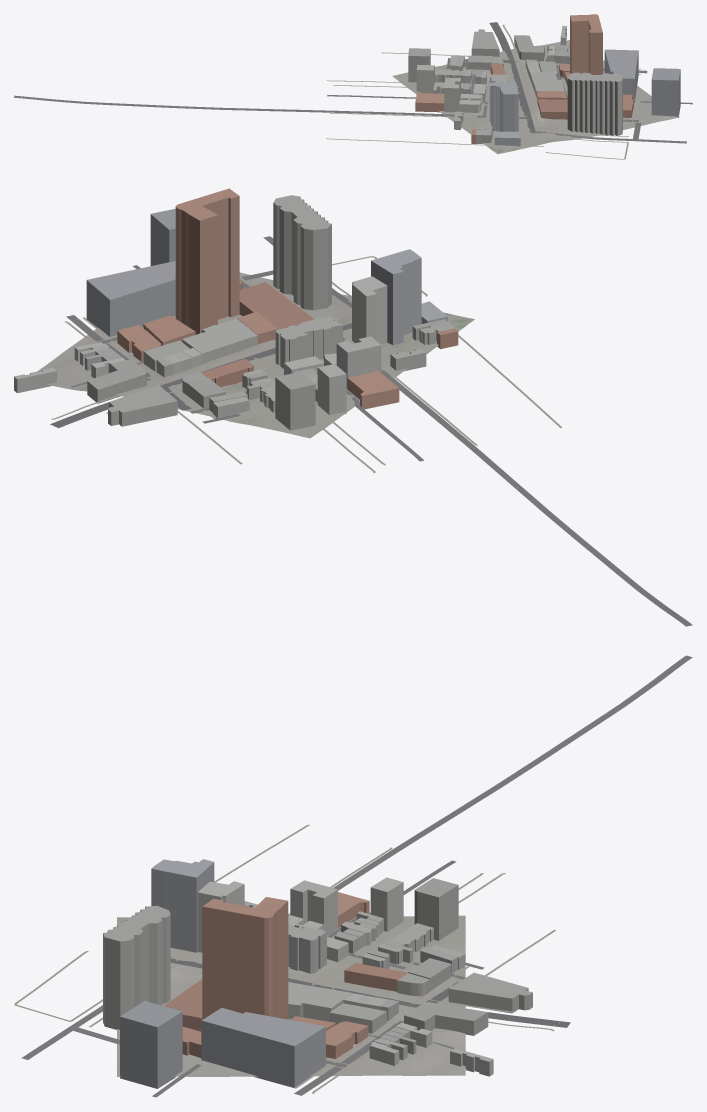
Rendered from tile_-6_-2.glb.
3 views of the same model, one above another, from view 1: azimuth 30°, elevation 25°; view 2: azimuth 150°, elevation 25°; view 3: azimuth 270°, elevation 25° (orthographic). The views are drawn at different scales.
Parts seen in each view (by area): view 1: buildings, terrain, roads; view 2: buildings, terrain, roads; view 3: buildings, terrain, roads.
Boxes of the visible parts, left/top/right/bottom form: buildings: left=408, top=14, right=680, bottom=146; terrain: left=392, top=40, right=679, bottom=154; roads: left=14, top=22, right=692, bottom=159; buildings: left=14, top=188, right=458, bottom=430; terrain: left=37, top=272, right=474, bottom=438; roads: left=50, top=236, right=692, bottom=626; buildings: left=103, top=859, right=532, bottom=1088; terrain: left=117, top=915, right=465, bottom=1076; roads: left=14, top=655, right=692, bottom=1097.
Size of the model in its own units: 727 by 106 by 498.
